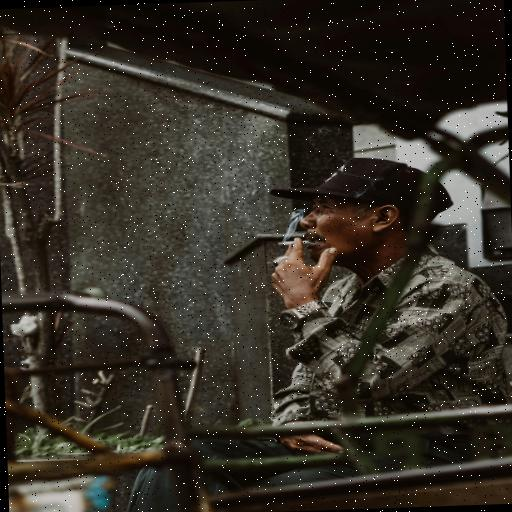merokok: (254, 194, 355, 284)
